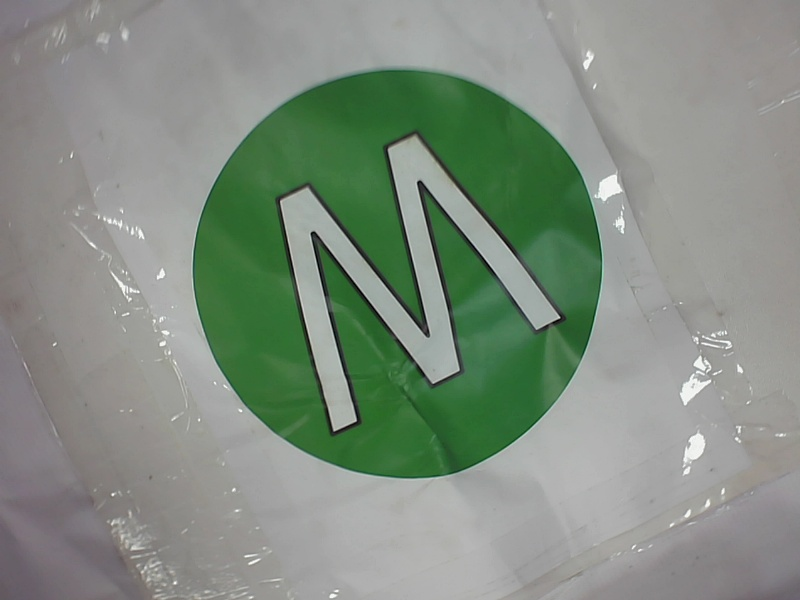areaB: (181, 63, 622, 485)
